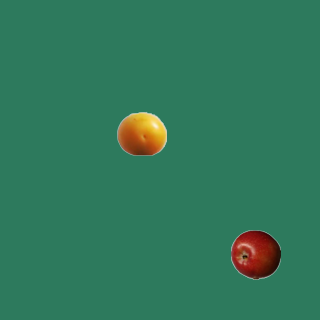Apple Braeburn: (230, 229, 280, 279)
Cherry Wax Yellow: (116, 108, 166, 158)
